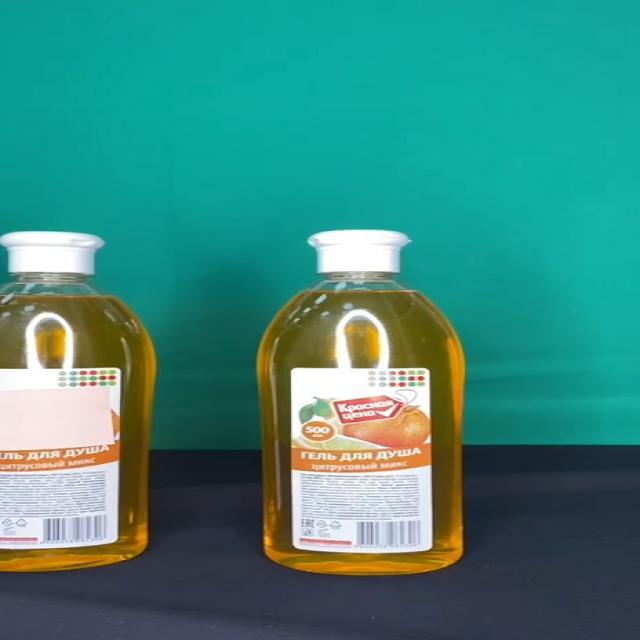Bottle: (257, 231, 468, 575), (0, 228, 156, 572)
Cap: (0, 230, 106, 276), (306, 231, 412, 274)
